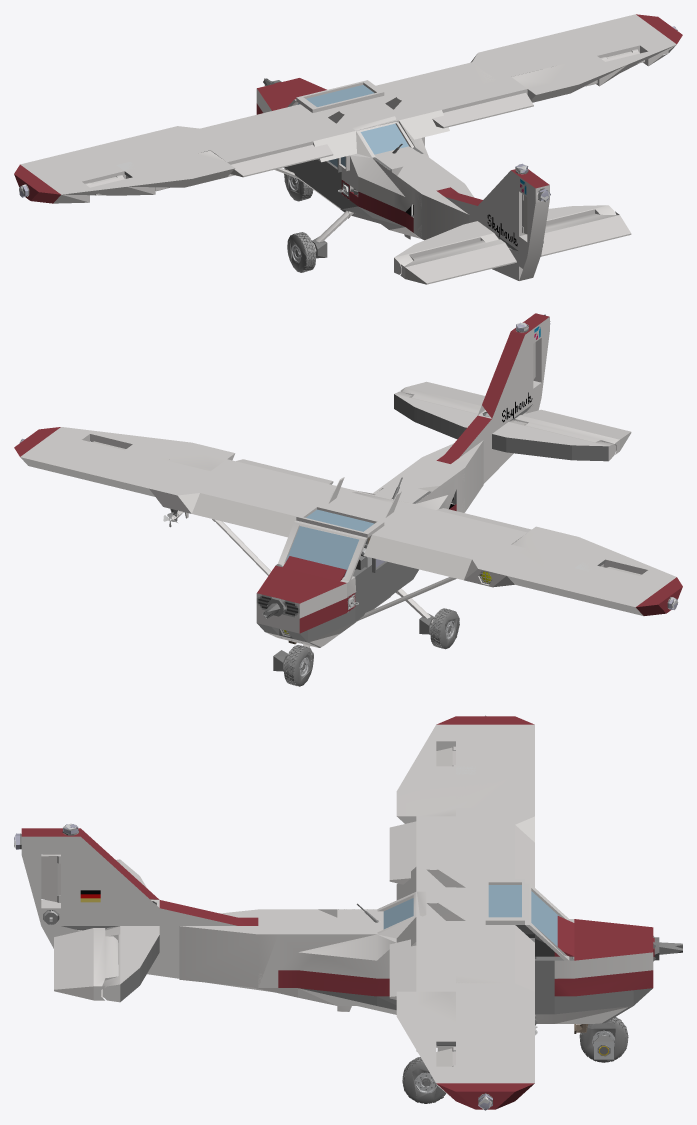
File: cessna.glb
3 renders of one model, top to bottom at view 1: azimuth 30°, elevation 25°; view 2: azimuth 150°, elevation 25°; view 3: azimuth 270°, elevation 25°, orthographic. The views are drawn at different scales.
Parts seen in each view (by area): view 1: aircraft; view 2: aircraft; view 3: aircraft.
Part boxes in pixels (x1,y1,x2,y2): aircraft: (14, 14, 682, 284); aircraft: (14, 313, 682, 686); aircraft: (14, 715, 682, 1110).
Size of the model in its own units: 11.44 by 3.28 by 8.47.
